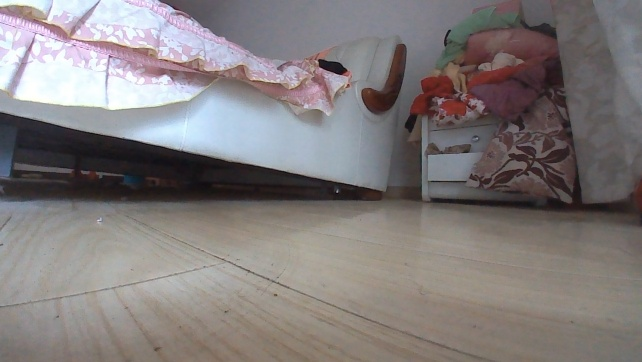bed: (0, 0, 408, 205)
cabinet: (417, 102, 549, 208)
